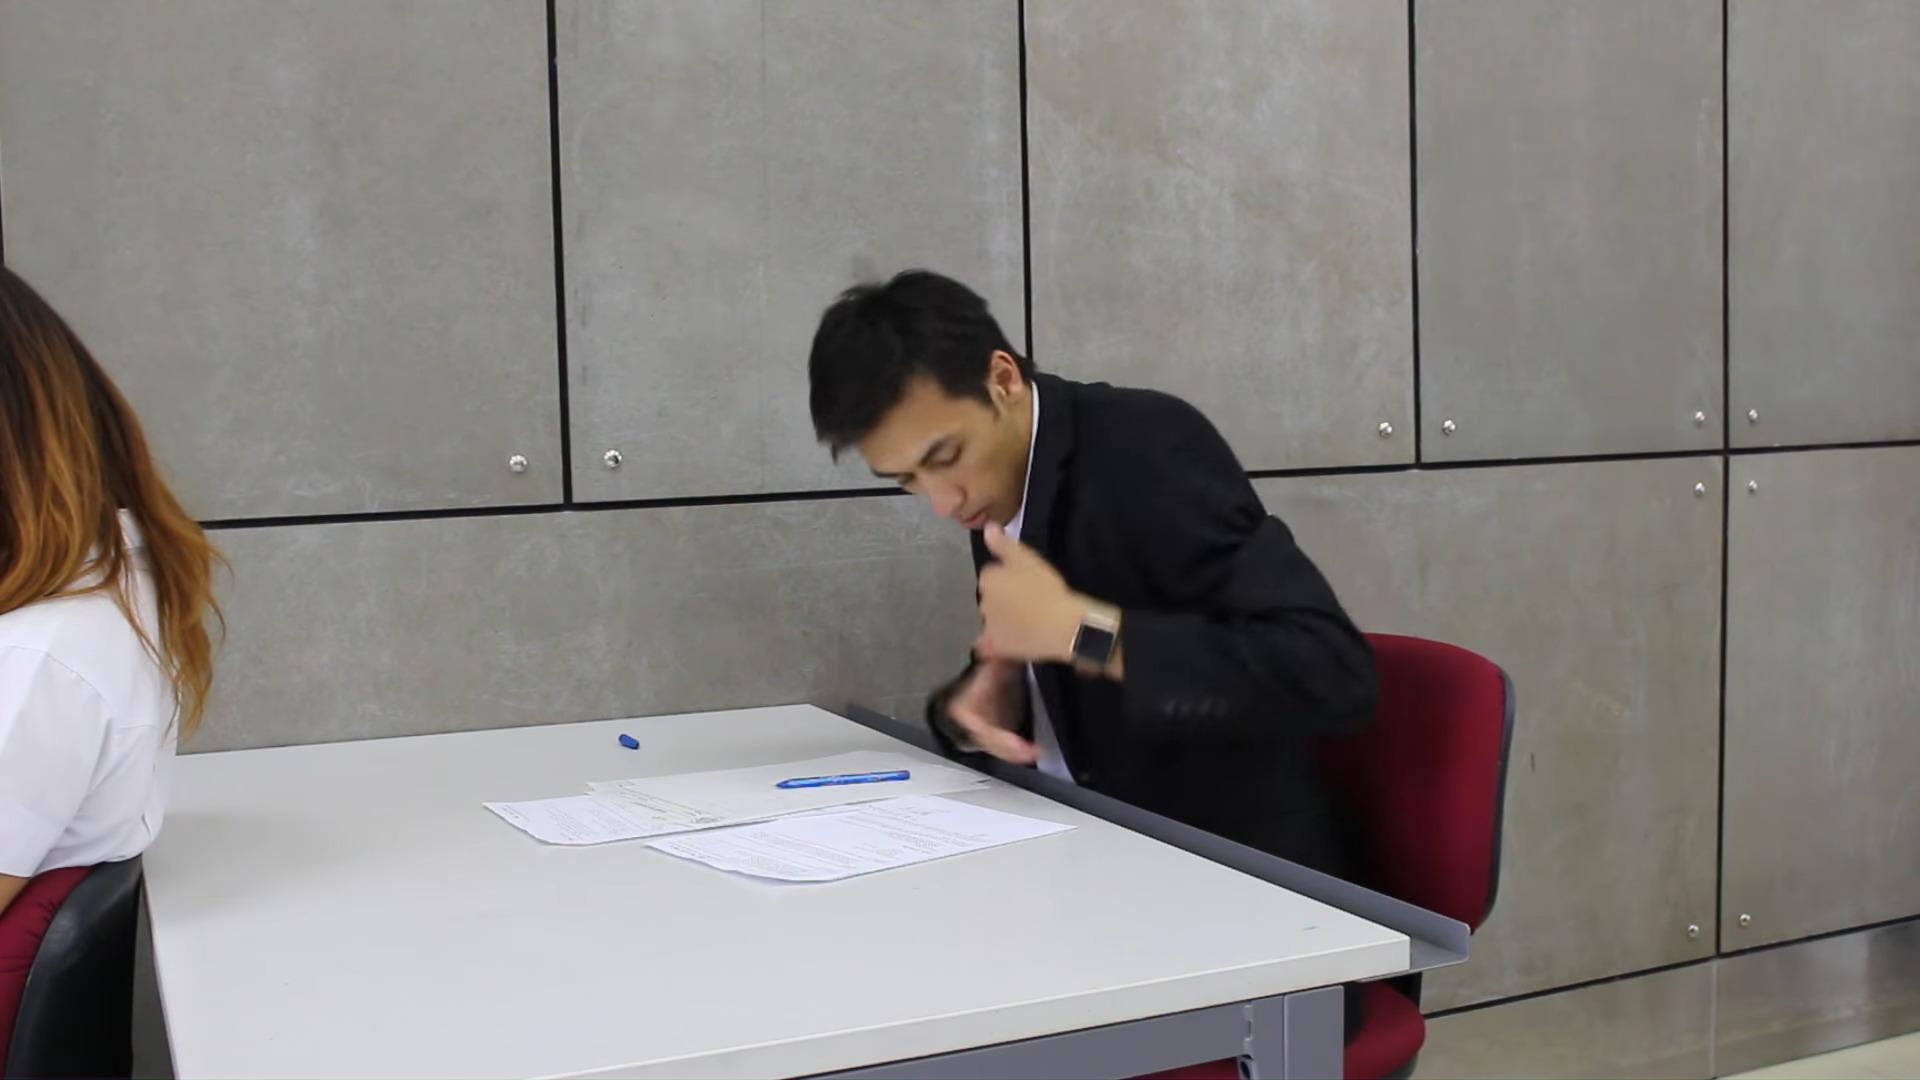cheating: (440, 231, 1418, 919)
